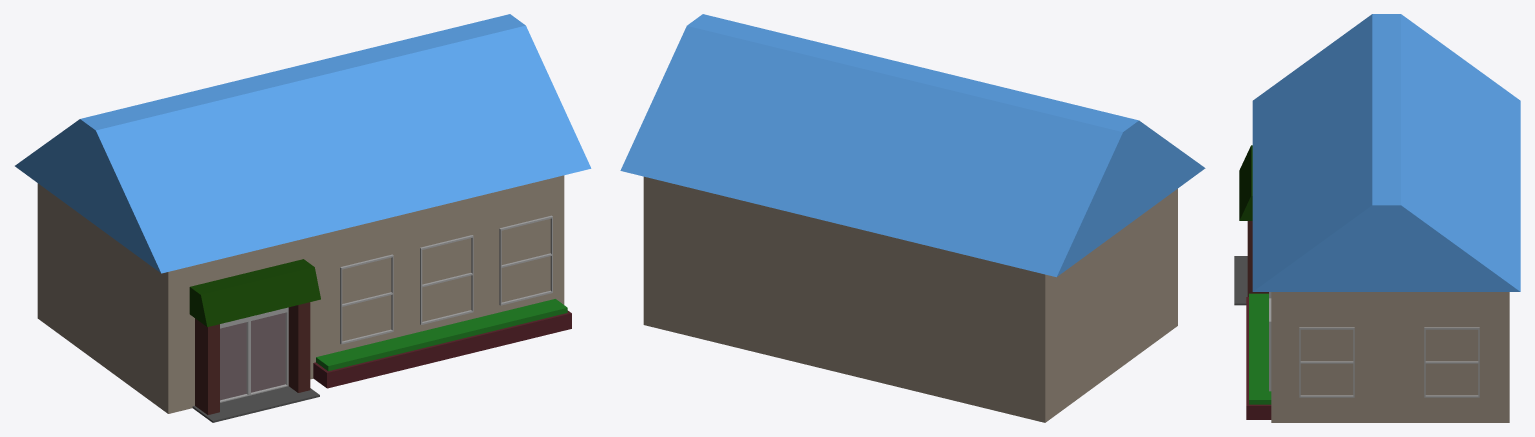
Rendered from CommunityCenter.fbx.
The picture shows the model from 3 angles, left to right: view 1: azimuth 30°, elevation 25°; view 2: azimuth 150°, elevation 25°; view 3: azimuth 270°, elevation 25°; orthographic projection. The views are drawn at different scales.
Parts seen in each view (by area): view 1: Roof2, CommunityCenter, FlowerBed, Roof, Door, Pole, Window, Step; view 2: Roof2, CommunityCenter; view 3: Roof2, CommunityCenter, FlowerBed, Window, Roof, Step, Pole.
Boxes of the visible parts, x1=… form: Roof2: x1=15, y1=14, x2=591, y2=273; CommunityCenter: x1=37, y1=175, x2=564, y2=413; FlowerBed: x1=313, y1=299, x2=571, y2=388; Roof: x1=189, y1=259, x2=320, y2=326; Door: x1=220, y1=307, x2=288, y2=402; Pole: x1=195, y1=302, x2=310, y2=414; Window: x1=340, y1=215, x2=552, y2=344; Step: x1=192, y1=386, x2=319, y2=422; Roof2: x1=620, y1=14, x2=1205, y2=277; CommunityCenter: x1=643, y1=176, x2=1177, y2=422; Roof2: x1=1252, y1=14, x2=1520, y2=291; CommunityCenter: x1=1271, y1=292, x2=1509, y2=422; FlowerBed: x1=1246, y1=293, x2=1271, y2=419; Window: x1=1269, y1=292, x2=1479, y2=397; Roof: x1=1239, y1=145, x2=1252, y2=220; Step: x1=1234, y1=256, x2=1247, y2=305; Pole: x1=1247, y1=221, x2=1268, y2=296.
Size of the model in its own units: 3265 by 1793 by 2064.
